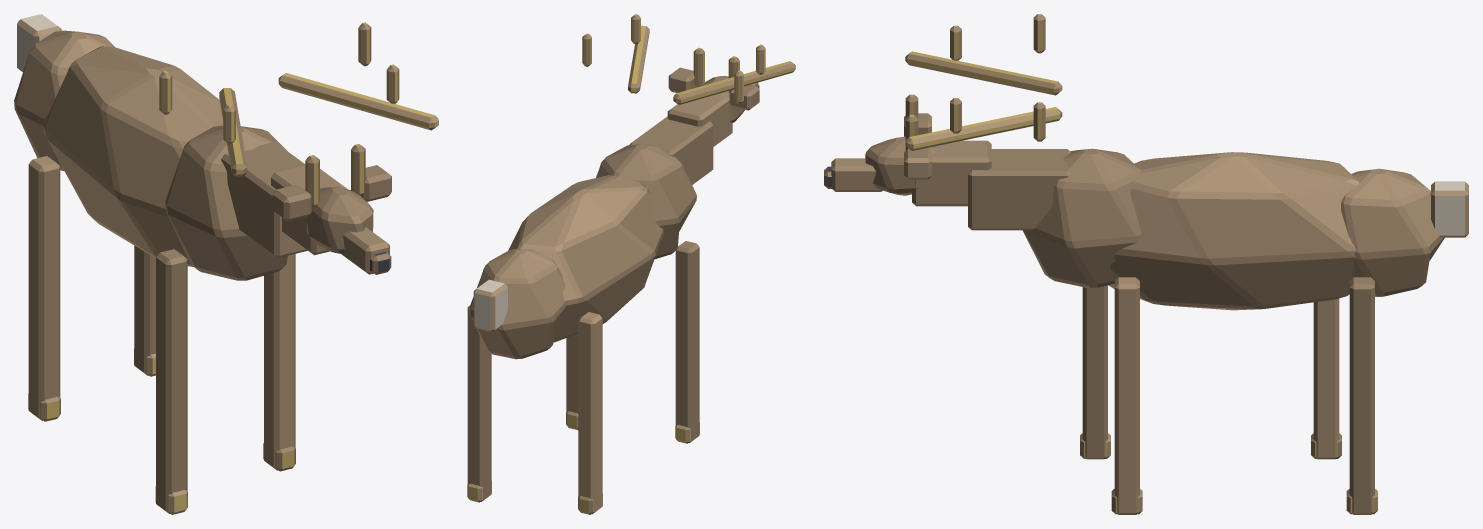
File: SM_Kit_veado.fbx
3 renders of one model, left to right at view 1: azimuth 30°, elevation 25°; view 2: azimuth 150°, elevation 25°; view 3: azimuth 270°, elevation 25°, orthographic. The views are drawn at different scales.
Parts seen in each view (by area): view 1: SM_Kit_veado; view 2: SM_Kit_veado; view 3: SM_Kit_veado.
Boxes of the visible parts, x1,y1,x2,y2 form: SM_Kit_veado: (14,14,438,514); SM_Kit_veado: (467,14,795,514); SM_Kit_veado: (824,14,1468,514).
Size of what is drawn, in the model's own units: 55.2 by 118 by 162.
